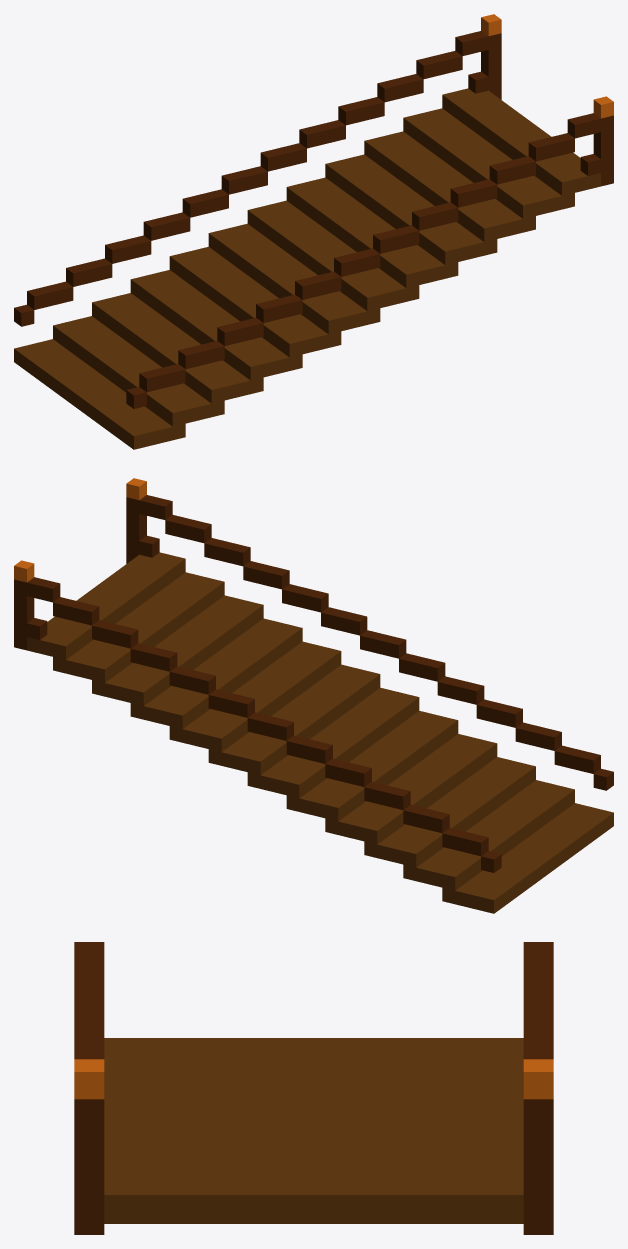
The model's file is Steris.obj.
The picture shows the model from 3 angles, top to bottom: view 1: azimuth 30°, elevation 25°; view 2: azimuth 150°, elevation 25°; view 3: azimuth 270°, elevation 25°; orthographic projection. The views are drawn at different scales.
Visible parts, largest first — view 1: Steris; view 2: Steris; view 3: Steris.
Part boxes in pixels (x1=…): Steris: x1=14, y1=14, x2=613, y2=449; Steris: x1=14, y1=478, x2=613, y2=913; Steris: x1=74, y1=942, x2=553, y2=1234.
Size of the model in its own units: 37 by 17 by 16.
Materials: 1 (1 with a texture image).
